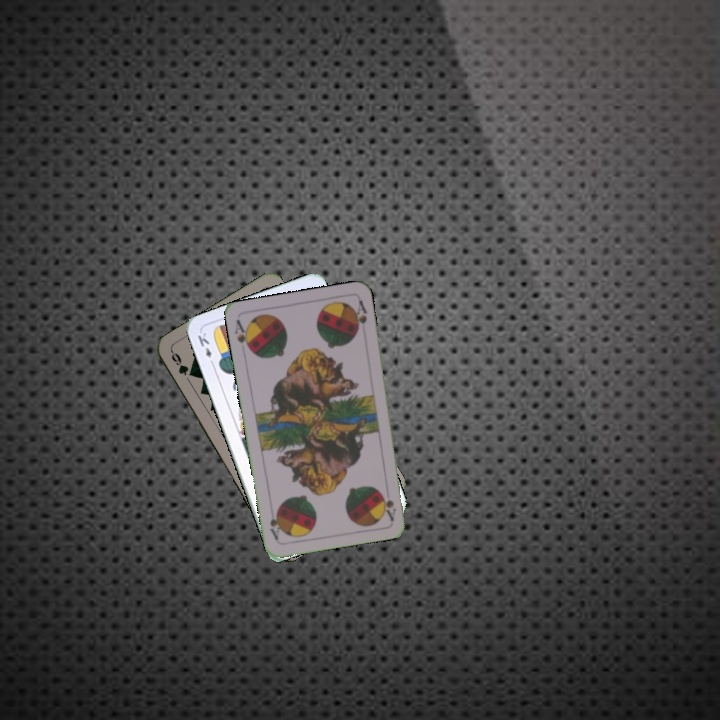EK: (194, 328, 217, 368)
G9: (167, 348, 193, 385)
SA: (231, 316, 254, 355), (382, 496, 398, 523)
